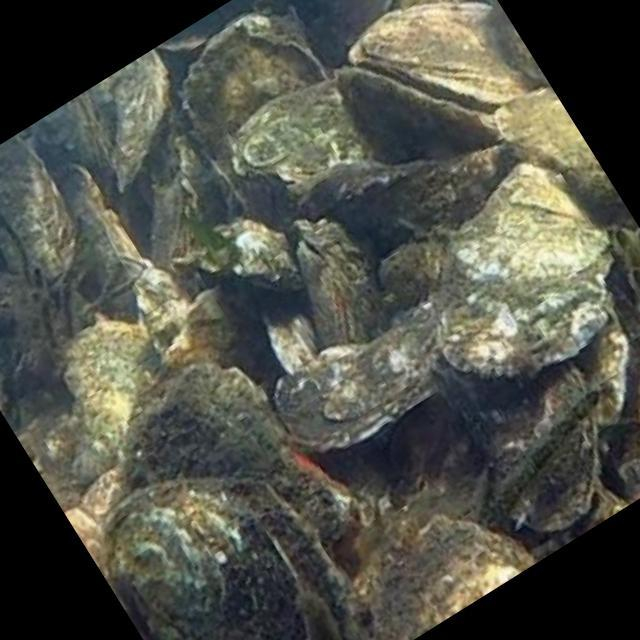Oyster- Indeterminate: (104, 472, 354, 640), (128, 361, 352, 548), (438, 173, 616, 384), (181, 18, 327, 227), (273, 307, 439, 437), (375, 512, 537, 640), (350, 0, 541, 97), (334, 61, 498, 161), (491, 89, 617, 210), (66, 320, 156, 480), (228, 79, 368, 181), (111, 51, 171, 188)
Oyster-Closed: (300, 139, 517, 257), (57, 164, 136, 322), (0, 138, 74, 288), (120, 254, 150, 282)
Oyster-Open: (286, 218, 393, 347)
